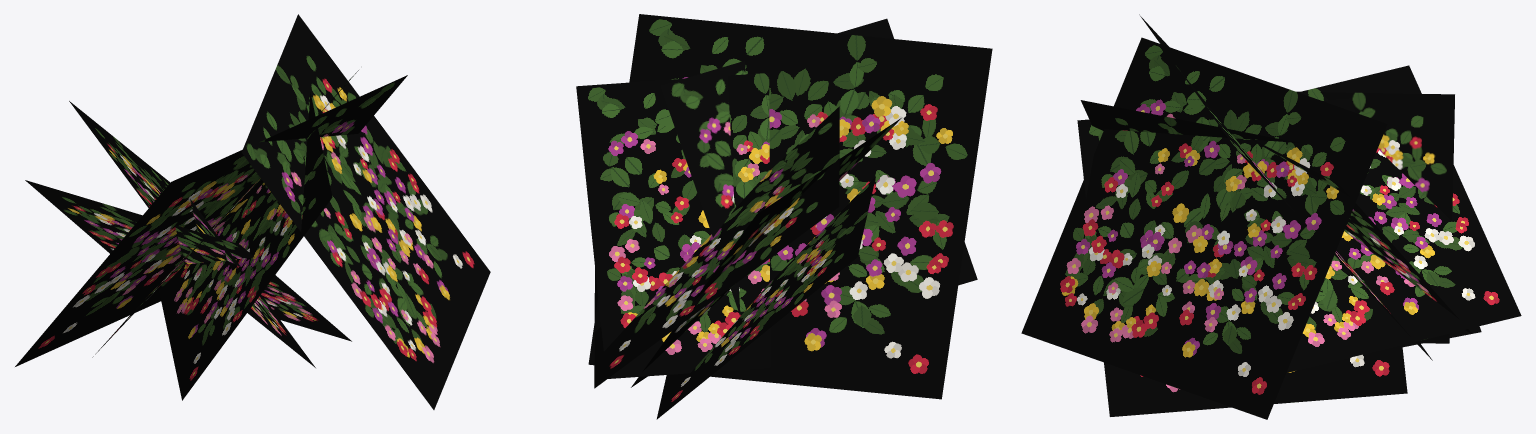
File: shrub_flower.glb
3 renders of one model, left to right at view 1: azimuth 30°, elevation 25°; view 2: azimuth 150°, elevation 25°; view 3: azimuth 270°, elevation 25°, orthographic. The views are drawn at different scales.
Parts seen in each view (by area): view 1: shrub_flower; view 2: shrub_flower; view 3: shrub_flower.
Part boxes in pixels (x1,y1,x2,y2): shrub_flower: (15, 14, 490, 409); shrub_flower: (576, 14, 992, 419); shrub_flower: (1021, 14, 1521, 419).
Size of the model in its own units: 2.29 by 1.5 by 2.34.
Materials: 1 (1 with a texture image).
